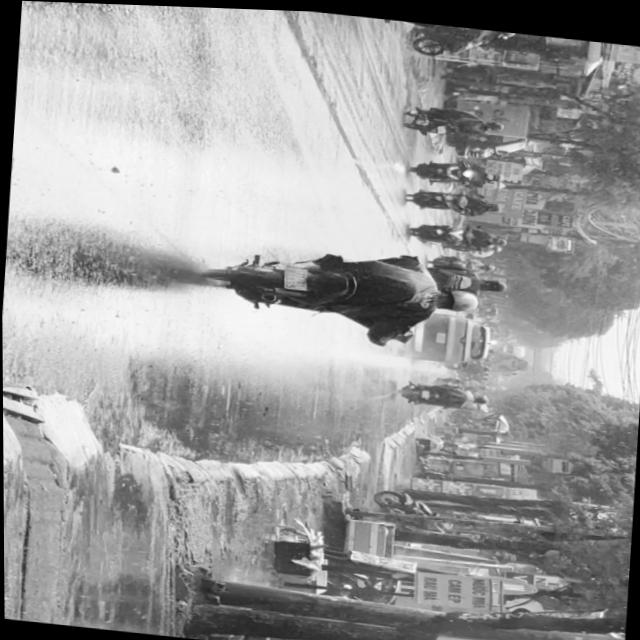helmet: (441, 282, 481, 309)
licenseplate: (196, 231, 485, 340)
nohelmet: (282, 264, 307, 287)
